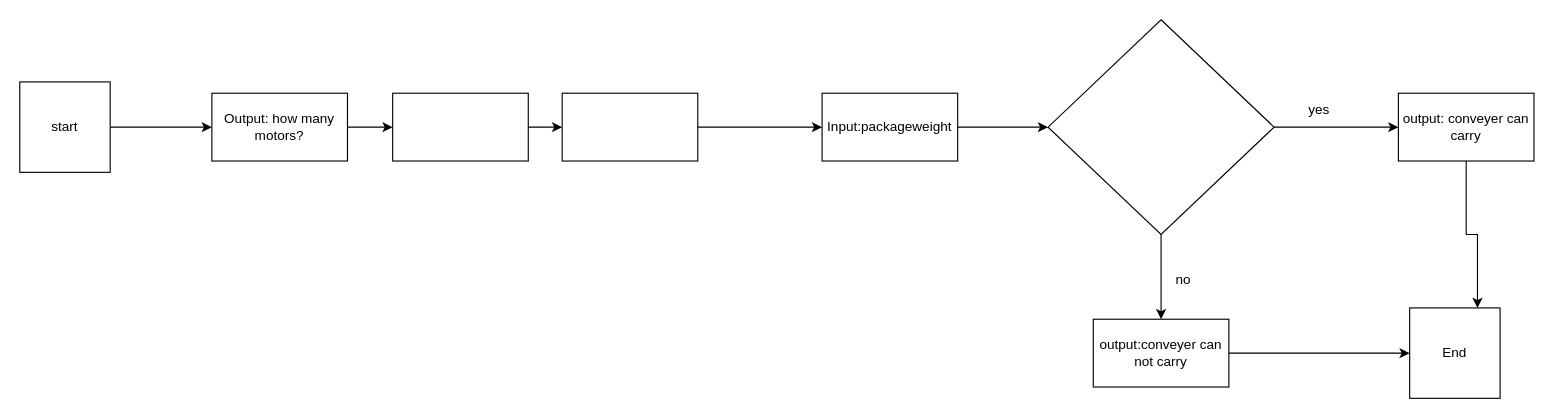
Some shapes in this 1554 by 418 pixel diagram are drawn without their labels. Each missing label, with the box of its shape:
are the packageweight lower or equal to motorcount*motorcapacity?: (1047, 19, 1274, 234)
input: motorcount: (392, 92, 528, 161)
output: how much package?: (561, 92, 698, 161)
